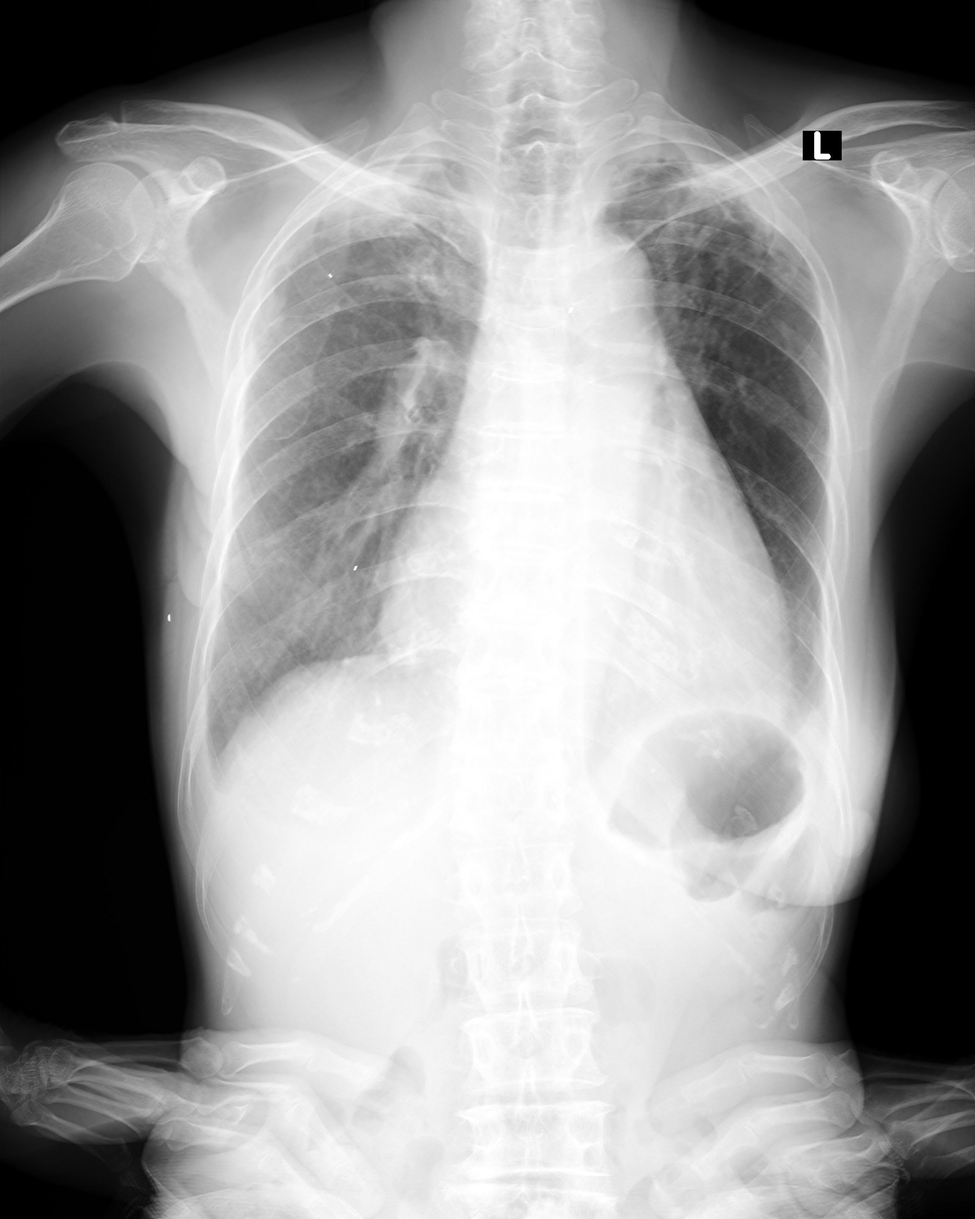Aortic enlargement: (552, 226, 659, 374)
Cardiomegaly: (380, 583, 788, 714)
Pleural thickening: (602, 142, 732, 171)
Pulmonary fibrosis: (635, 191, 766, 394), (340, 167, 488, 325)
